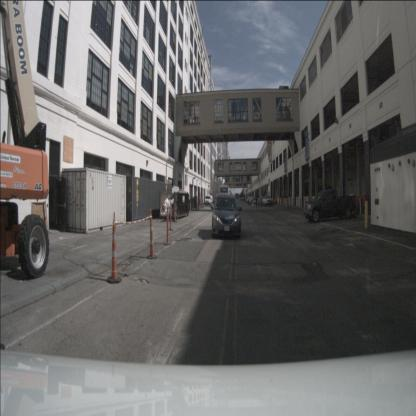human-pedestrian-adult: (257, 196, 260, 208), (251, 197, 254, 207), (260, 196, 262, 208), (256, 197, 258, 207), (248, 198, 250, 205)
movable_object-trafficcone: (107, 210, 122, 284), (147, 208, 157, 260), (164, 205, 172, 245), (168, 205, 173, 231), (173, 199, 177, 223)
vehicle-car: (212, 195, 241, 238), (263, 195, 272, 207), (204, 195, 212, 207)
vehicle-truck: (304, 189, 355, 223)
